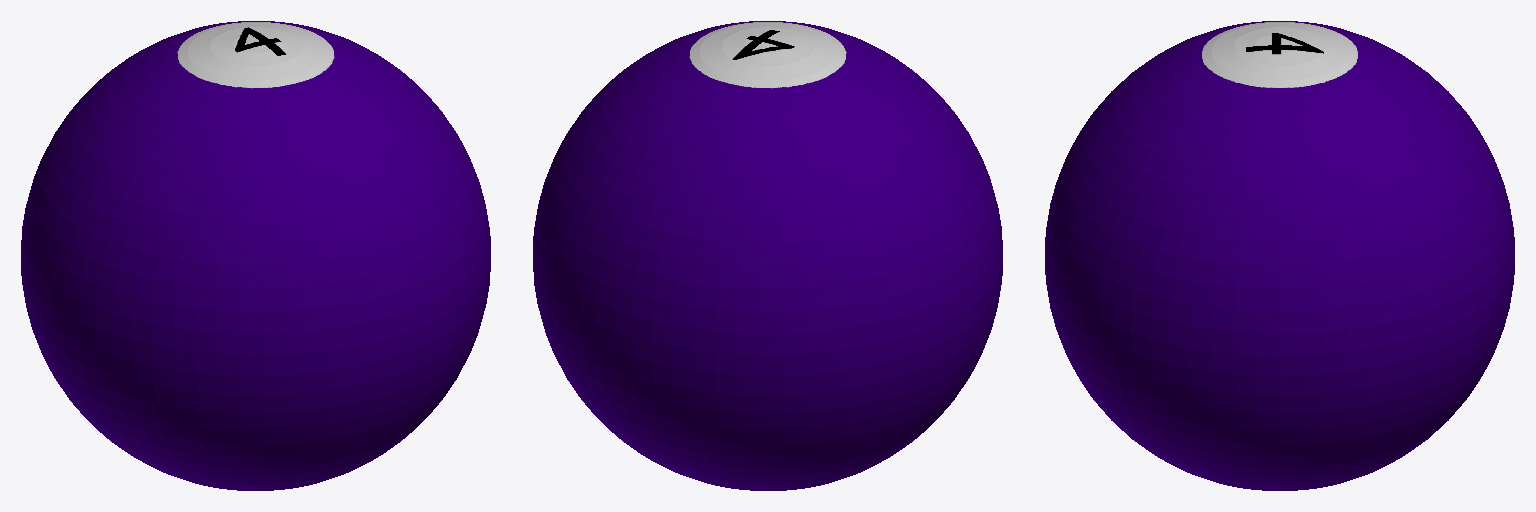
3 views of the same model, side by side, from view 1: azimuth 30°, elevation 25°; view 2: azimuth 150°, elevation 25°; view 3: azimuth 270°, elevation 25° (orthographic).
Visible parts, largest first — view 1: Sphere; view 2: Sphere; view 3: Sphere.
Part boxes in pixels (bbox=[...]): Sphere: bbox=[21, 21, 490, 490]; Sphere: bbox=[533, 21, 1002, 490]; Sphere: bbox=[1045, 21, 1514, 490].
Size of the model in its own units: 2 by 2 by 2.
Materials: 1 (1 with a texture image).